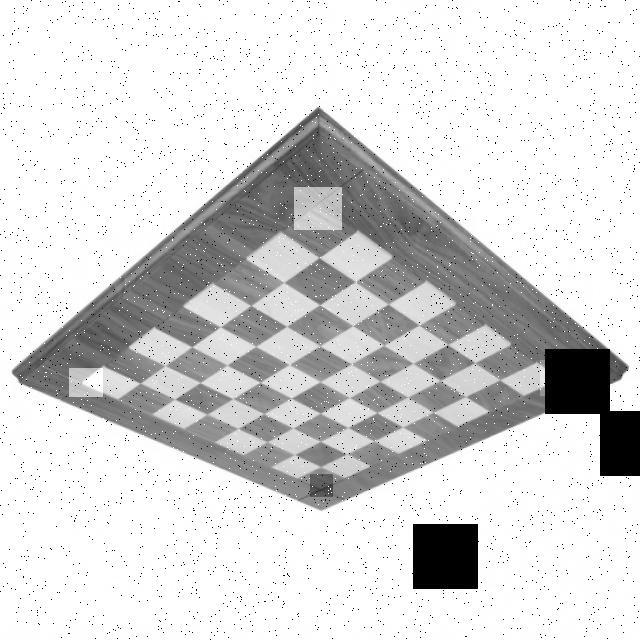chess-table-corners: (294, 187, 342, 230), (540, 360, 576, 396), (69, 368, 103, 397), (310, 474, 333, 497)
